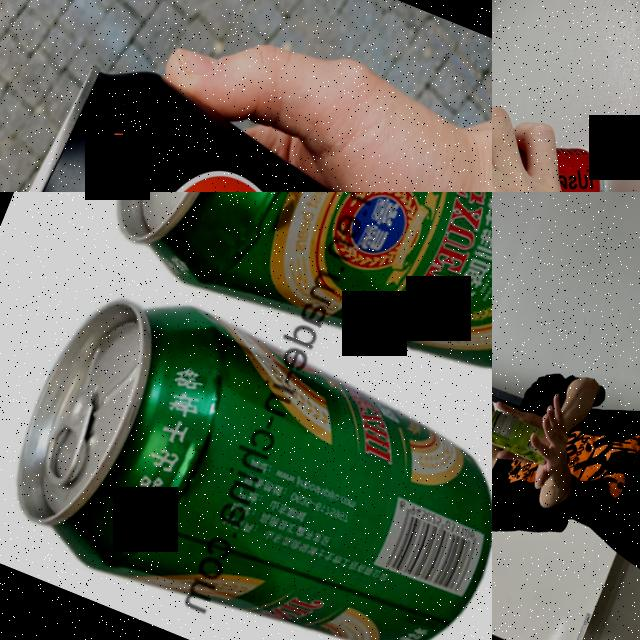can: (0, 262, 492, 640), (79, 192, 492, 420), (0, 35, 447, 192), (492, 56, 635, 192), (492, 405, 559, 466)
